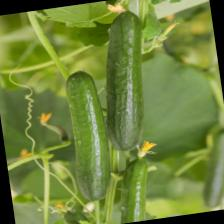cucumber: (89, 7, 159, 155), (60, 68, 117, 202)
